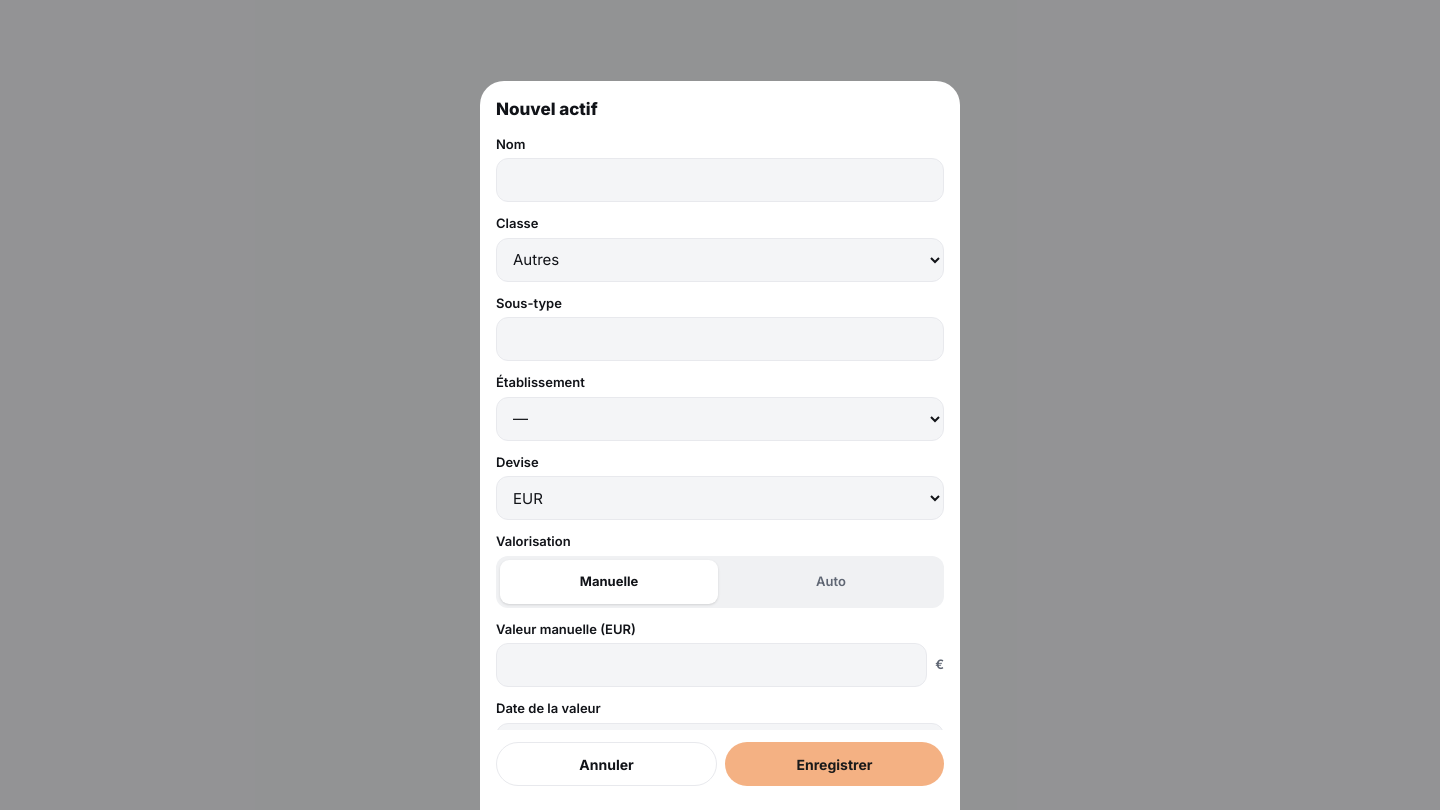
Test: AssetSheet — création › affiche les champs selon le mode : Manuelle (valeur + date) ou Auto (identifiant de cotation)
This screenshot has width=1440, height=810.
Expected: the button "Manuelle" is shown, [500, 560, 718, 604]
Expected: the field labelled "Identifiant de cotation" is not shown
Click the button "Auto": (831, 582) [722, 560, 940, 604]
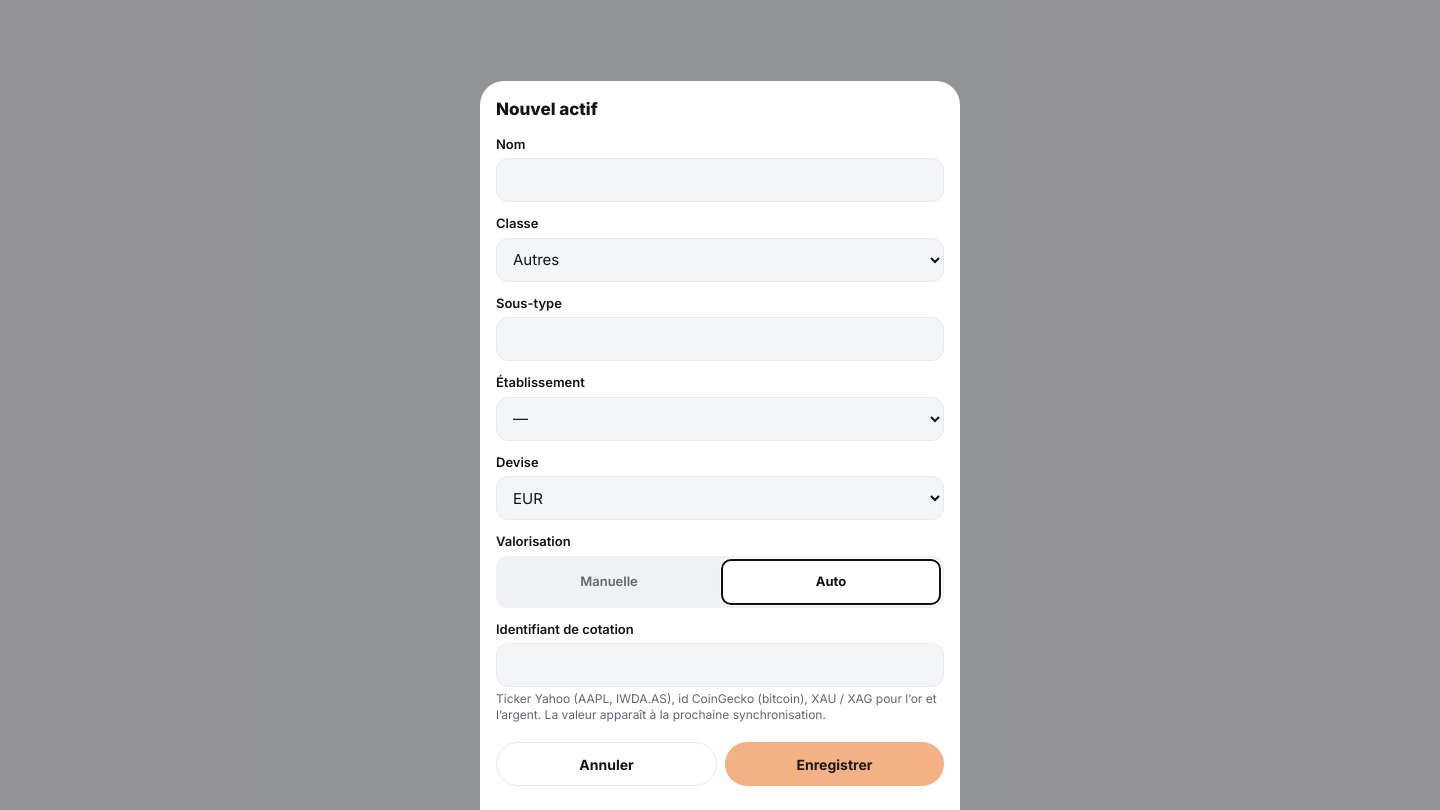
Expected: the text "XAU" is shown, [496, 691, 937, 722]
Expected: the label labelled "Valeur manuelle" is gone
Expected: the label labelled "Date de la valeur" is gone
